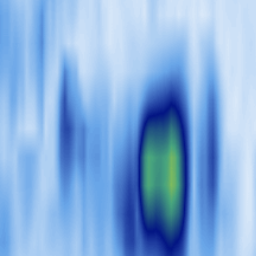defect: (119, 81, 186, 256), (58, 84, 76, 163), (205, 110, 217, 202)
